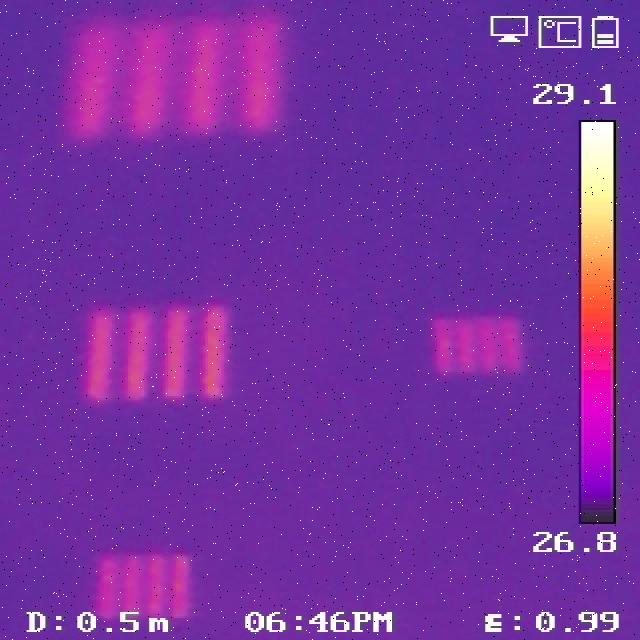Distinguishable 4-bar target: (75, 11, 282, 138), (76, 300, 235, 405), (92, 546, 195, 626)
threshold 4-bar target: (419, 307, 528, 380)
